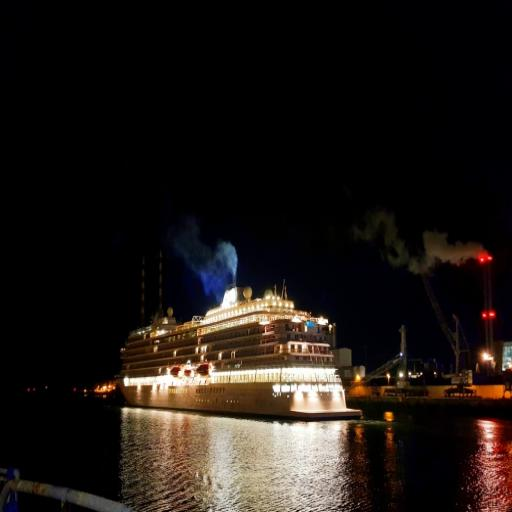cruises: (111, 273, 367, 432)
